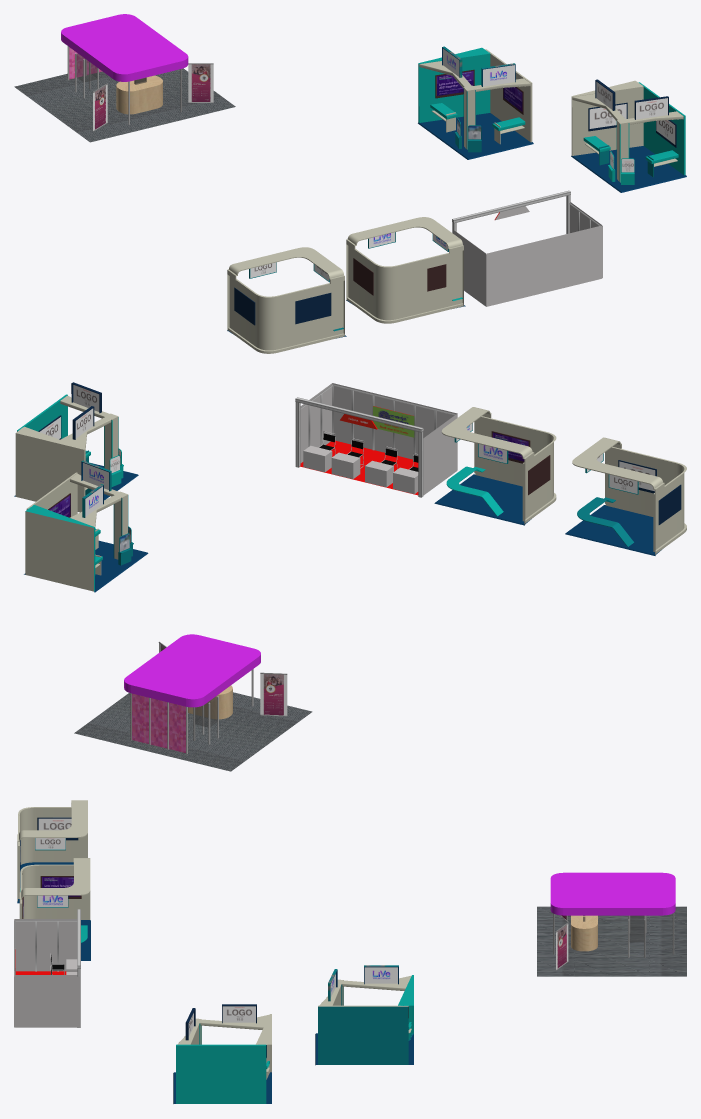
Rendered from expo3.glb.
3 renders of one model, top to bottom at view 1: azimuth 30°, elevation 25°; view 2: azimuth 150°, elevation 25°; view 3: azimuth 270°, elevation 25°, orthographic. The views are drawn at different scales.
Parts seen in each view (by area): view 1: C-6x3_Merged_(1)objcleanermaterialmergergles, SM_Booth01_08_-_Default_0, SM_Booth003_07_-_Default_0, SM_Booth02_08_-_Default_0, SM_Booth004_07_-_Default_0, Plane011, Rectangle001, Rectangle005, Plane002, SM_BoothScreen006_07_-_Default_0, SM_BoothScreen002_07_-_Default_0, SM_SignBooth003_08_-_Default_0 (+4 smaller); view 2: C-6x3_Merged_(1)objcleanermaterialmergergles, SM_Booth01_08_-_Default_0, SM_Booth02_08_-_Default_0, SM_Booth004_07_-_Default_0, Plane011, SM_Booth003_07_-_Default_0, Rectangle001, Plane001, Plane004, Plane003, Plane005, Rectangle005 (+4 smaller); view 3: Plane011, C-6x3_Merged_(1)objcleanermaterialmergergles, SM_Booth01_08_-_Default_0, SM_Booth003_07_-_Default_0, Rectangle001, SM_Booth02_08_-_Default_0, SM_Booth004_07_-_Default_0, Rectangle005, SM_SignBooth005_07_-_Default_0, SM_SignBooth01_08_-_Default_0, SM_BoothScreen007_07_-_Default_0, Plane002.
Part boxes in pixels (left/top/right/bottom): C-6x3_Merged_(1)objcleanermaterialmergergles: left=452, top=190, right=602, bottom=306; SM_Booth01_08_-_Default_0: left=418, top=47, right=533, bottom=159; SM_Booth003_07_-_Default_0: left=571, top=80, right=686, bottom=192; SM_Booth02_08_-_Default_0: left=346, top=217, right=465, bottom=323; SM_Booth004_07_-_Default_0: left=227, top=247, right=346, bottom=353; Plane011: left=14, top=68, right=235, bottom=142; Rectangle001: left=61, top=14, right=188, bottom=81; Rectangle005: left=116, top=75, right=162, bottom=114; Plane002: left=188, top=64, right=213, bottom=101; SM_BoothScreen006_07_-_Default_0: left=295, top=293, right=331, bottom=324; SM_BoothScreen002_07_-_Default_0: left=588, top=102, right=627, bottom=131; SM_SignBooth003_08_-_Default_0: left=481, top=63, right=515, bottom=86; C-6x3_Merged_(1)objcleanermaterialmergergles: left=295, top=383, right=457, bottom=497; SM_Booth01_08_-_Default_0: left=24, top=472, right=148, bottom=592; SM_Booth02_08_-_Default_0: left=434, top=407, right=556, bottom=525; SM_Booth004_07_-_Default_0: left=565, top=437, right=686, bottom=555; Plane011: left=74, top=692, right=312, bottom=771; SM_Booth003_07_-_Default_0: left=14, top=394, right=138, bottom=512; Rectangle001: left=124, top=634, right=260, bottom=707; Plane001: left=260, top=674, right=287, bottom=715; Plane004: left=150, top=698, right=167, bottom=748; Plane003: left=169, top=702, right=185, bottom=752; Plane005: left=132, top=693, right=148, bottom=743; Rectangle005: left=188, top=685, right=232, bottom=719; Plane011: left=537, top=906, right=686, bottom=976; C-6x3_Merged_(1)objcleanermaterialmergergles: left=14, top=909, right=80, bottom=1027; SM_Booth01_08_-_Default_0: left=315, top=975, right=413, bottom=1065; SM_Booth003_07_-_Default_0: left=173, top=1014, right=271, bottom=1103; Rectangle001: left=550, top=872, right=675, bottom=915; SM_Booth02_08_-_Default_0: left=19, top=858, right=90, bottom=960; SM_Booth004_07_-_Default_0: left=17, top=800, right=87, bottom=903; Rectangle005: left=571, top=915, right=597, bottom=951; SM_SignBooth005_07_-_Default_0: left=222, top=1004, right=256, bottom=1023; SM_SignBooth01_08_-_Default_0: left=364, top=965, right=398, bottom=984; SM_BoothScreen007_07_-_Default_0: left=37, top=817, right=78, bottom=840; Plane002: left=556, top=924, right=568, bottom=969.
Size of what is drawn, in the model's own units: 26.2 by 4.01 by 30.81.
Materials: 24 (13 with a texture image).
